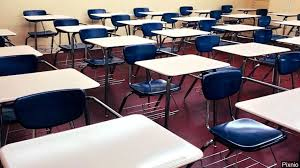desk: (0, 113, 203, 167), (133, 53, 230, 122), (0, 67, 99, 132), (84, 34, 157, 95), (23, 14, 74, 74), (212, 40, 291, 77), (54, 24, 117, 65), (150, 27, 211, 53), (210, 23, 265, 39), (116, 19, 167, 34), (90, 10, 134, 24), (170, 15, 214, 27)
